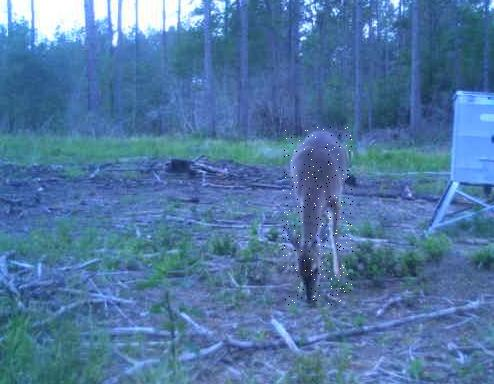Deer: (281, 128, 352, 306)
